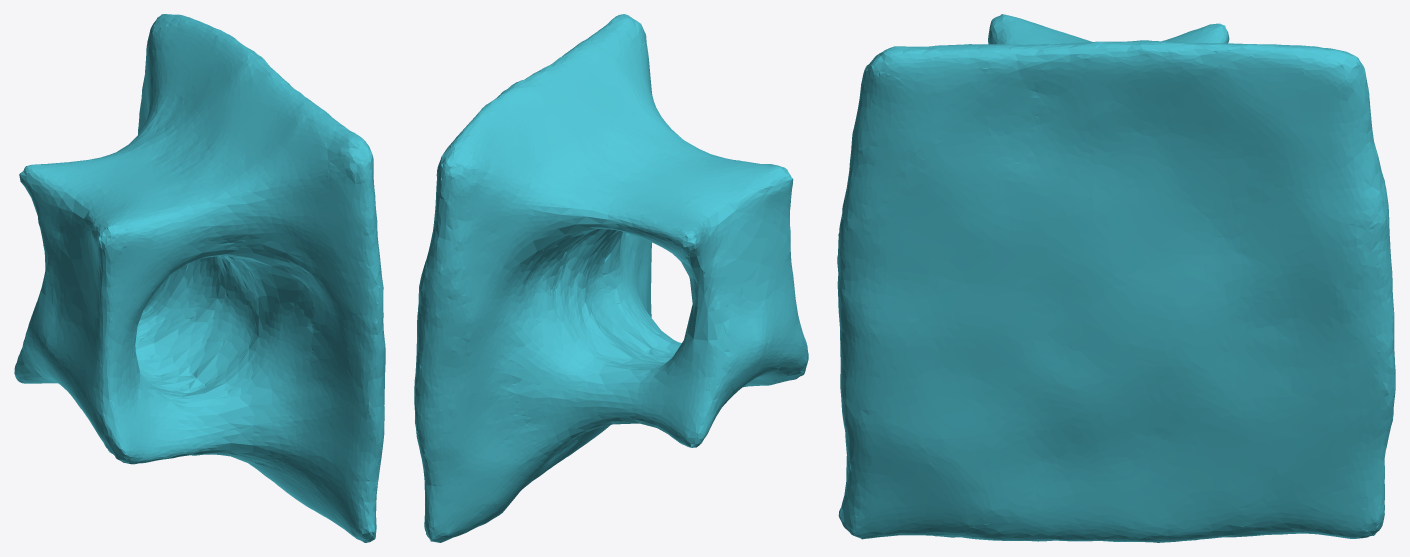
3 views of the same model, side by side, from view 1: azimuth 30°, elevation 25°; view 2: azimuth 150°, elevation 25°; view 3: azimuth 270°, elevation 25° (orthographic). The views are drawn at different scales.
Visible parts, largest first — view 1: Renderer Node; view 2: Renderer Node; view 3: Renderer Node.
Part boxes in pixels (x1,y1,x2,y2): Renderer Node: (14, 14, 385, 542); Renderer Node: (414, 14, 808, 542); Renderer Node: (837, 14, 1395, 542).
Size of the model in its own units: 0.3963 by 0.627 by 0.6322.
1 material, 1 textured.
